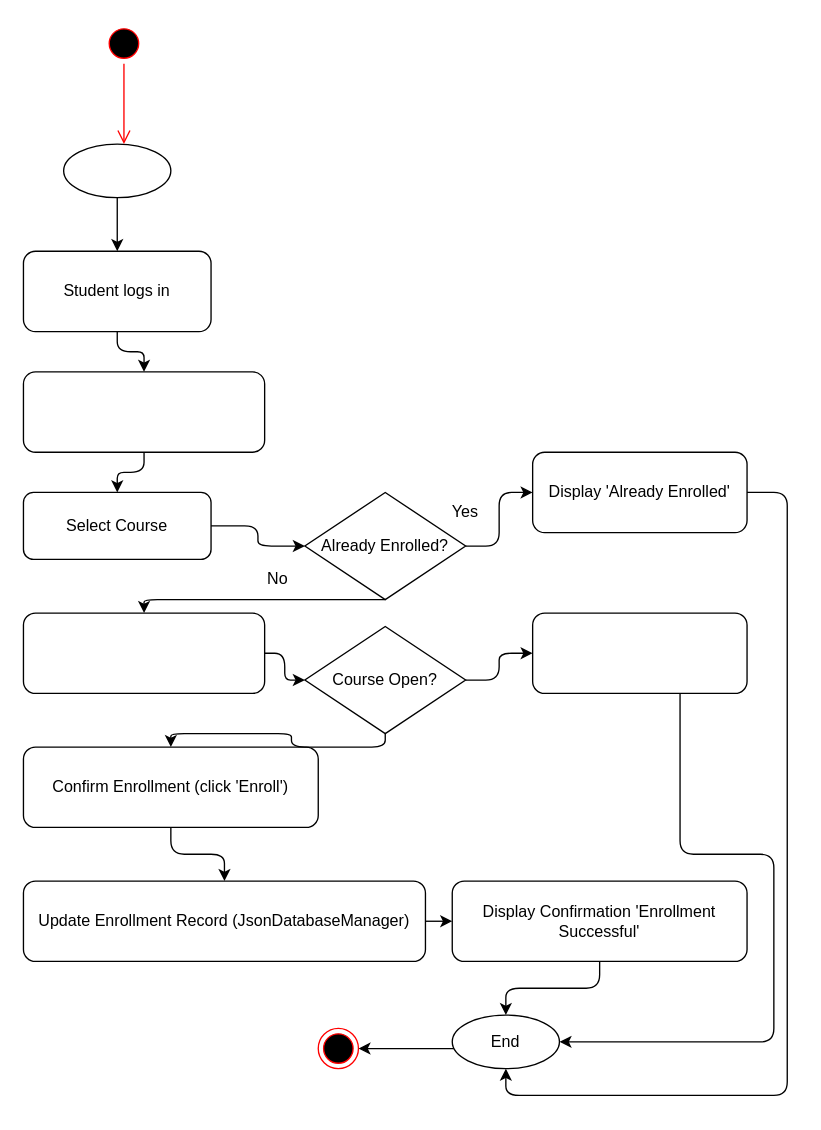
Some shapes in this 821 by 1130 pixel diagram are drawn without their labels. The shapes that lost their labels are listed below. From the top down, each one's centre as x and y in pixels, then its label:
the point at 116,170: Start
the point at 143,411: Browse Available Courses
the point at 143,652: Check Course Availability
the point at 639,652: Show 'Course Closed' / 'Full'
